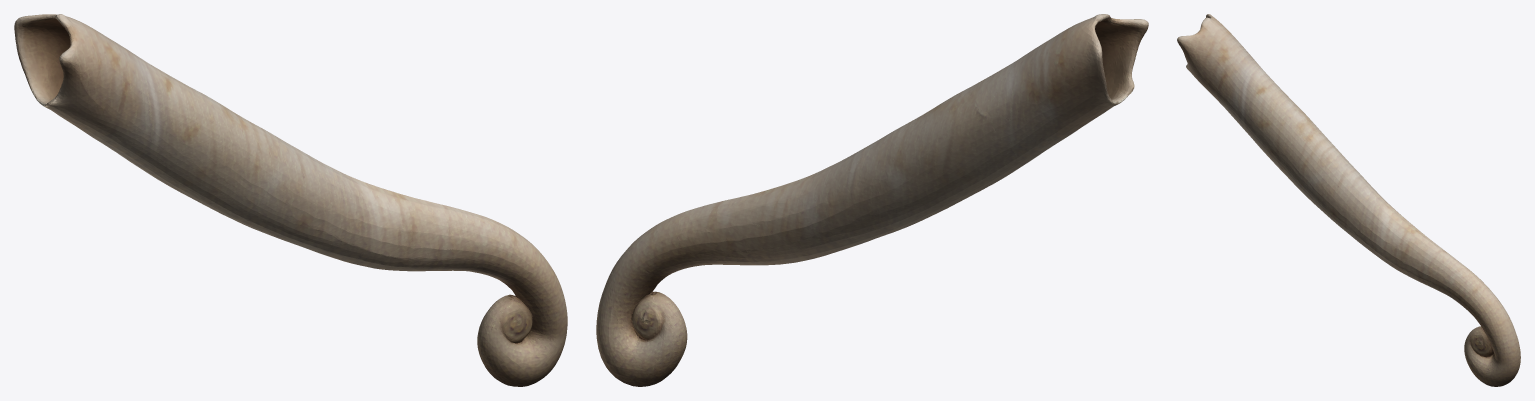
The picture shows the model from 3 angles, left to right: view 1: azimuth 30°, elevation 25°; view 2: azimuth 150°, elevation 25°; view 3: azimuth 330°, elevation 25°; orthographic projection. The views are drawn at different scales.
Parts seen in each view (by area): view 1: world; view 2: world; view 3: world.
Part boxes in pixels (x1,y1,x2,y2): world: [14, 14, 567, 386]; world: [596, 14, 1148, 386]; world: [1177, 14, 1520, 386].
Bounding box in the file's own units: 0.3243 × 0.2842 × 0.0531.
Materials: 1 (1 with a texture image).
